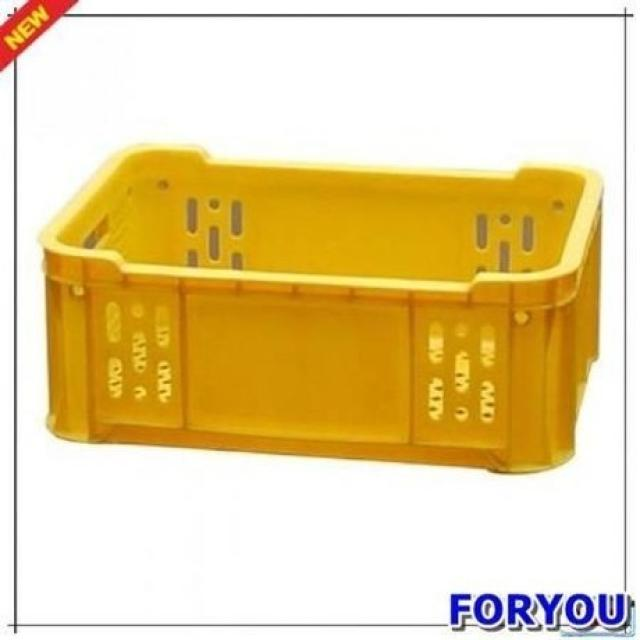basket: (33, 140, 609, 476)
